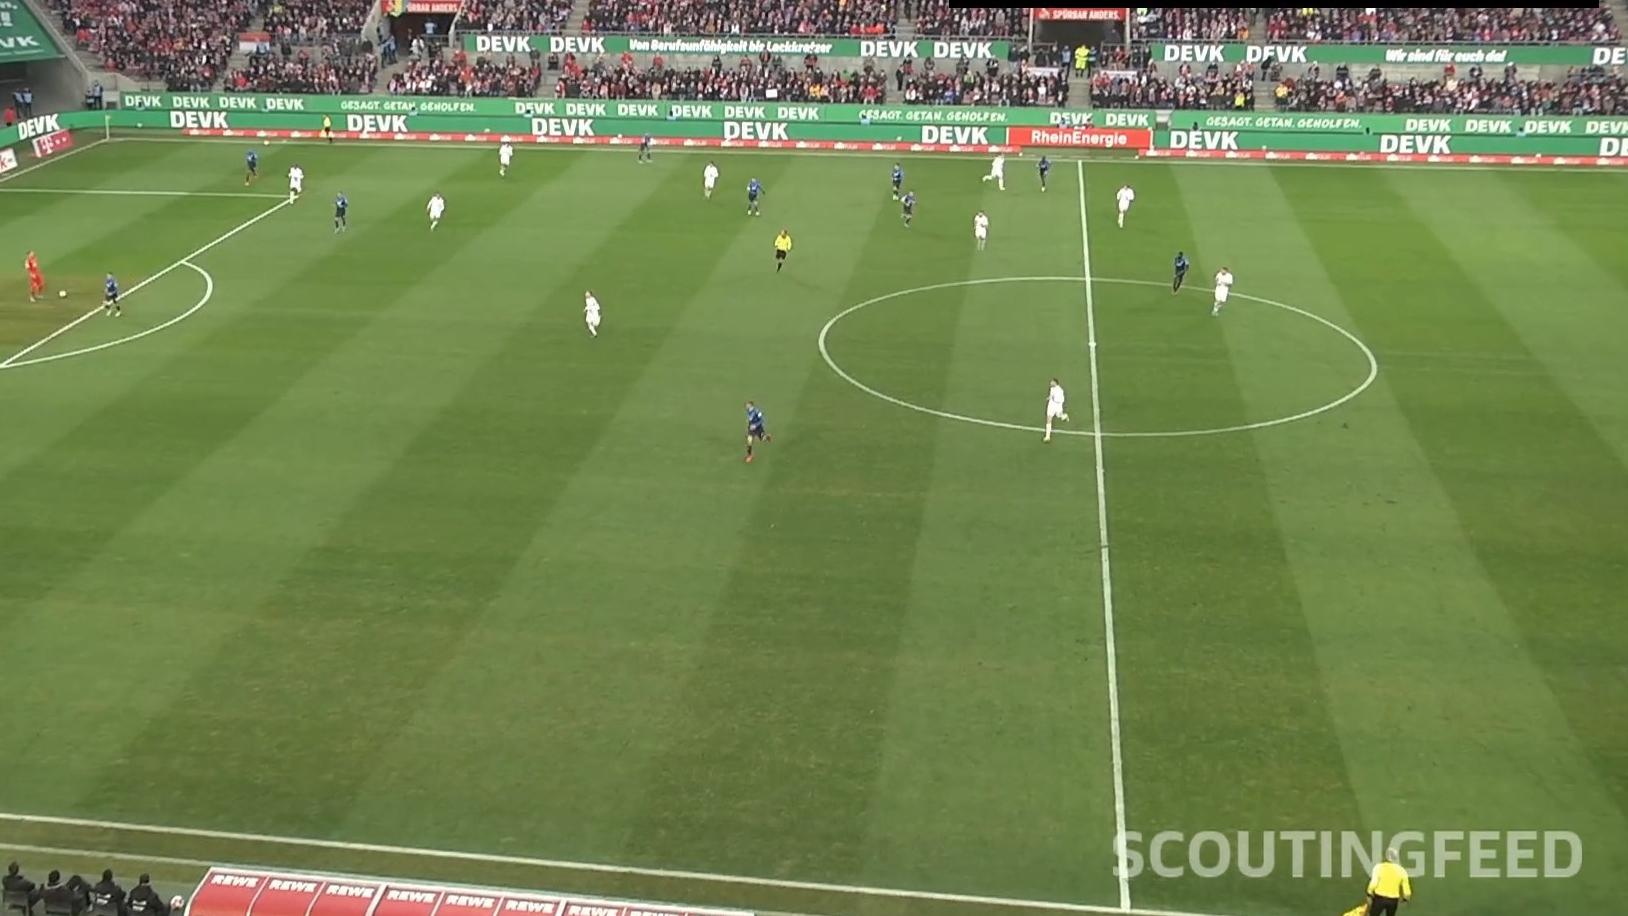ball: (58, 289, 67, 298)
